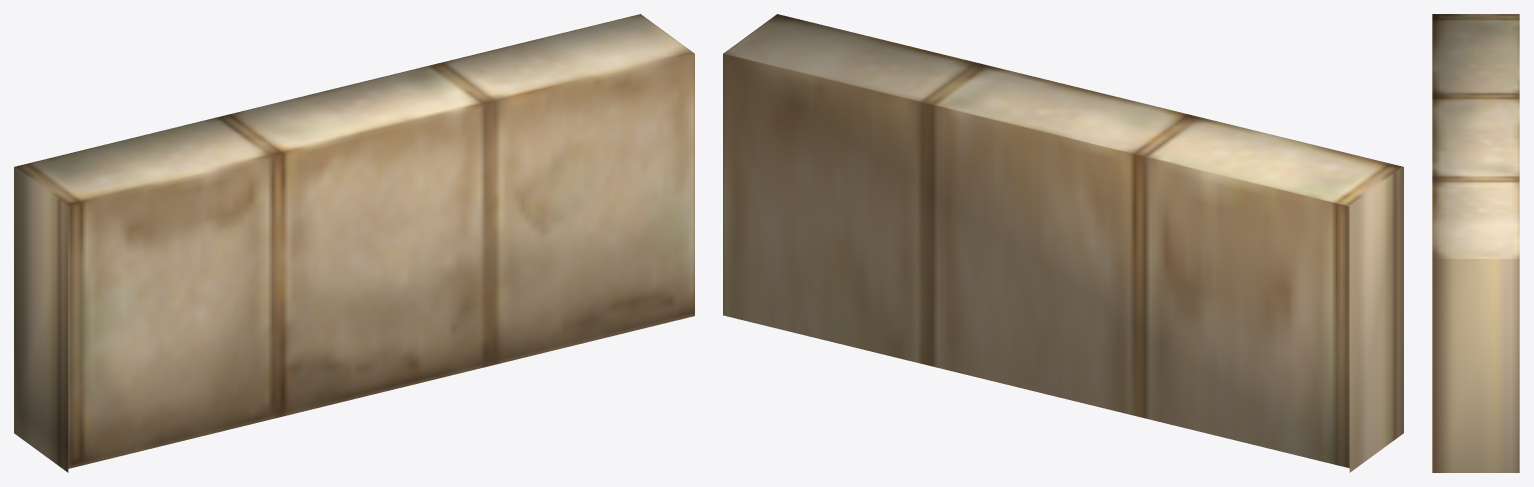
Rendered from a_SWEstair03a.glb.
3 renders of one model, left to right at view 1: azimuth 30°, elevation 25°; view 2: azimuth 150°, elevation 25°; view 3: azimuth 270°, elevation 25°, orthographic. The views are drawn at different scales.
Visible parts, largest first — view 1: a_SWEstair03a; view 2: a_SWEstair03a; view 3: a_SWEstair03a.
Part boxes in pixels (box(x1,y1,x2,y2)): a_SWEstair03a: box(14, 14, 694, 472); a_SWEstair03a: box(723, 14, 1403, 472); a_SWEstair03a: box(1432, 14, 1519, 472).
Bounding box in the file's own units: 2 × 0.8123 × 0.3002.
1 material, 1 textured.
